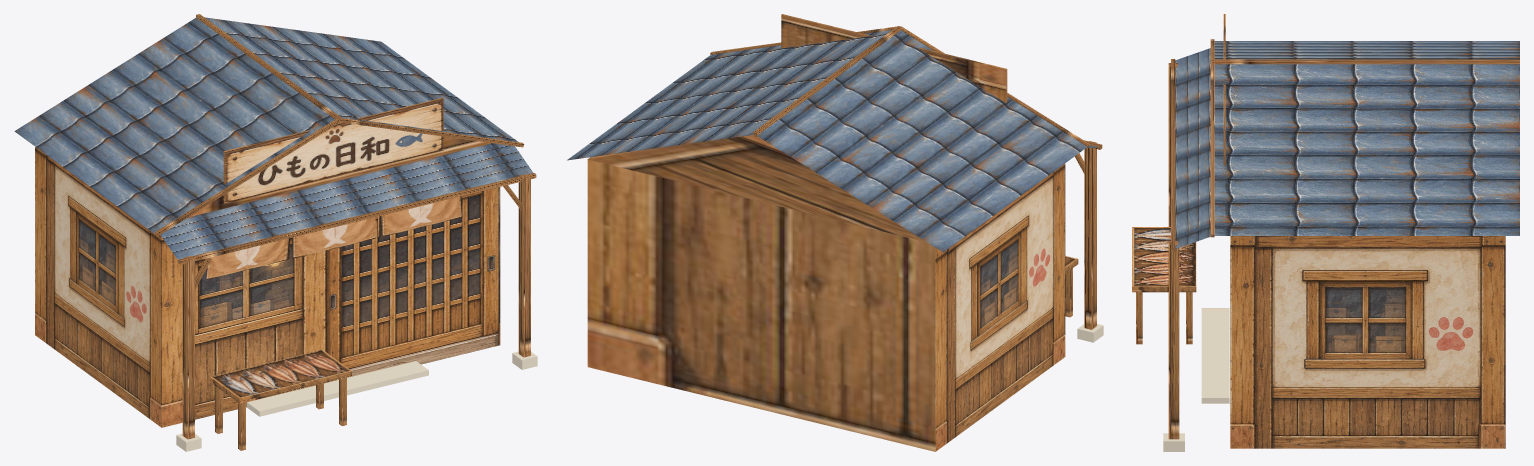
Rendered from nyanisyarud-harbor-himono.glb.
3 renders of one model, left to right at view 1: azimuth 30°, elevation 25°; view 2: azimuth 150°, elevation 25°; view 3: azimuth 270°, elevation 25°, orthographic. The views are drawn at different scales.
Visible parts, largest first — view 1: Himono_Biyori; view 2: Himono_Biyori; view 3: Himono_Biyori.
Part boxes in pixels (box(x1,y1,x2,y2)): Himono_Biyori: box(14, 14, 537, 451); Himono_Biyori: box(567, 14, 1103, 451); Himono_Biyori: box(1132, 14, 1519, 451).
Size of the model in its own units: 2.59 by 1.84 by 2.17.
Materials: 1 (1 with a texture image).
